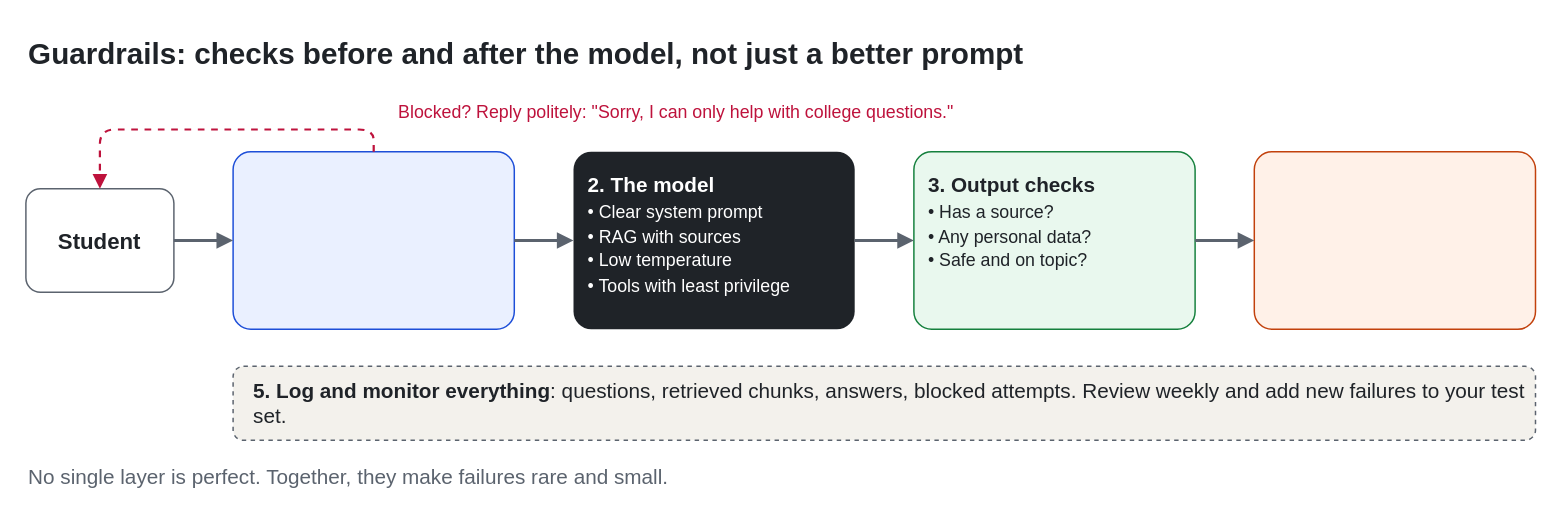
The diagram is 1561 pixels wide and 524 high, and some of its shapes have lost their labels. The shapes that lost their labels are listed below. From the top down, each one's centre as x and y in pixels, then its label:
(373,239): 1. Input checks • On topic? • Looks like injection? • Mask phone, Aadhaar, email
(1394,239): 4. Human review For high-stakes actions: marks, money, emails to everyone
